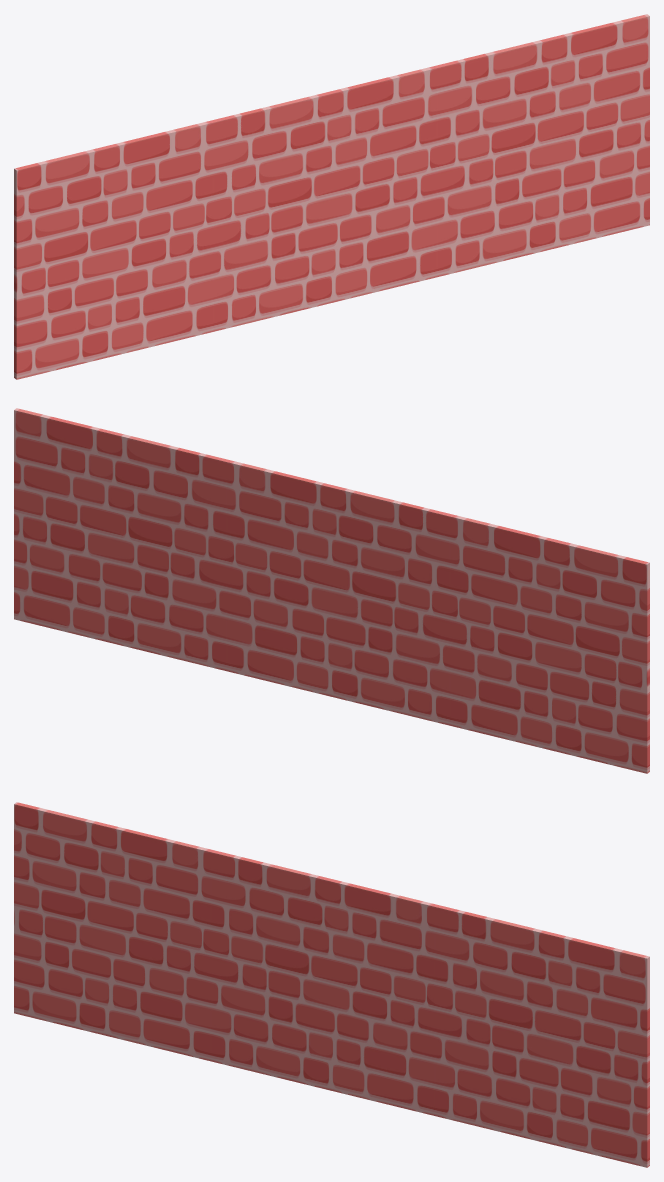
File: PARED LARGA LADRILO PARQUE.fbx
3 renders of one model, top to bottom at view 1: azimuth 30°, elevation 25°; view 2: azimuth 150°, elevation 25°; view 3: azimuth 330°, elevation 25°, orthographic.
Parts seen in each view (by area): view 1: PARED LARGA LADRILLO; view 2: PARED LARGA LADRILLO; view 3: PARED LARGA LADRILLO.
Boxes of the visible parts, box(x1,y1,x2,y2) form: PARED LARGA LADRILLO: box(14, 14, 649, 379); PARED LARGA LADRILLO: box(14, 408, 649, 773); PARED LARGA LADRILLO: box(14, 802, 649, 1167).
Size of the model in its own units: 8305 by 2622 by 63.39.
